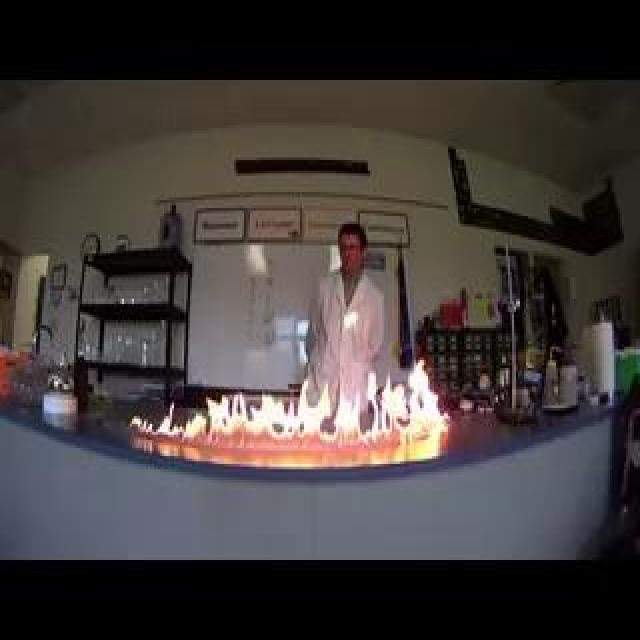Fire: (117, 357, 457, 456)
